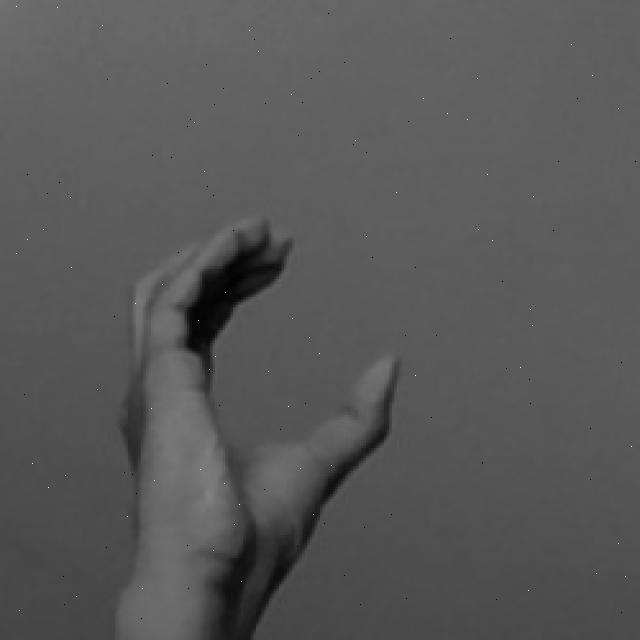C: (120, 215, 402, 640)
